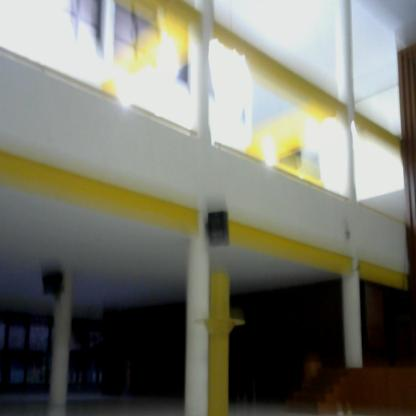pole: (188, 262, 253, 416)
